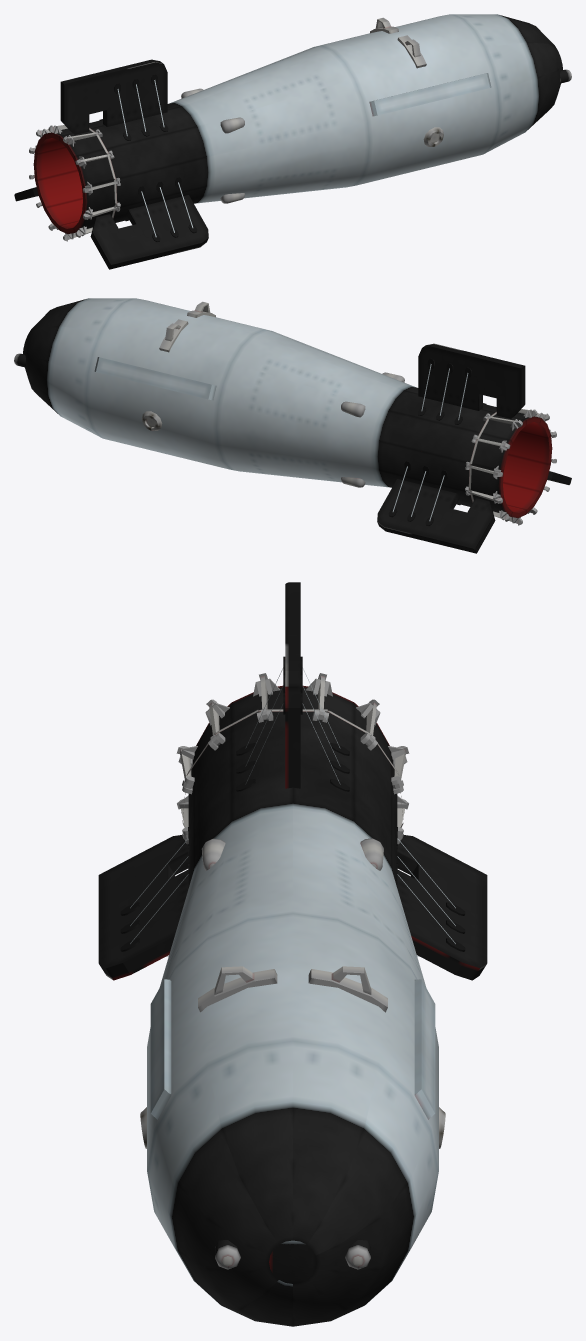
Rendered from nuke_tsar.obj.
The picture shows the model from 3 angles, top to bottom: view 1: azimuth 30°, elevation 25°; view 2: azimuth 150°, elevation 25°; view 3: azimuth 270°, elevation 25°; orthographic projection. The views are drawn at different scales.
Visible parts, largest first — view 1: Cylinder.004_Cylinder.007; view 2: Cylinder.004_Cylinder.007; view 3: Cylinder.004_Cylinder.007.
Boxes of the visible parts, bbox=[...] form: Cylinder.004_Cylinder.007: bbox=[14, 14, 571, 269]; Cylinder.004_Cylinder.007: bbox=[14, 298, 571, 553]; Cylinder.004_Cylinder.007: bbox=[98, 582, 487, 1326].
Bounding box in the file's own units: 8.14 × 2.59 × 2.75.
